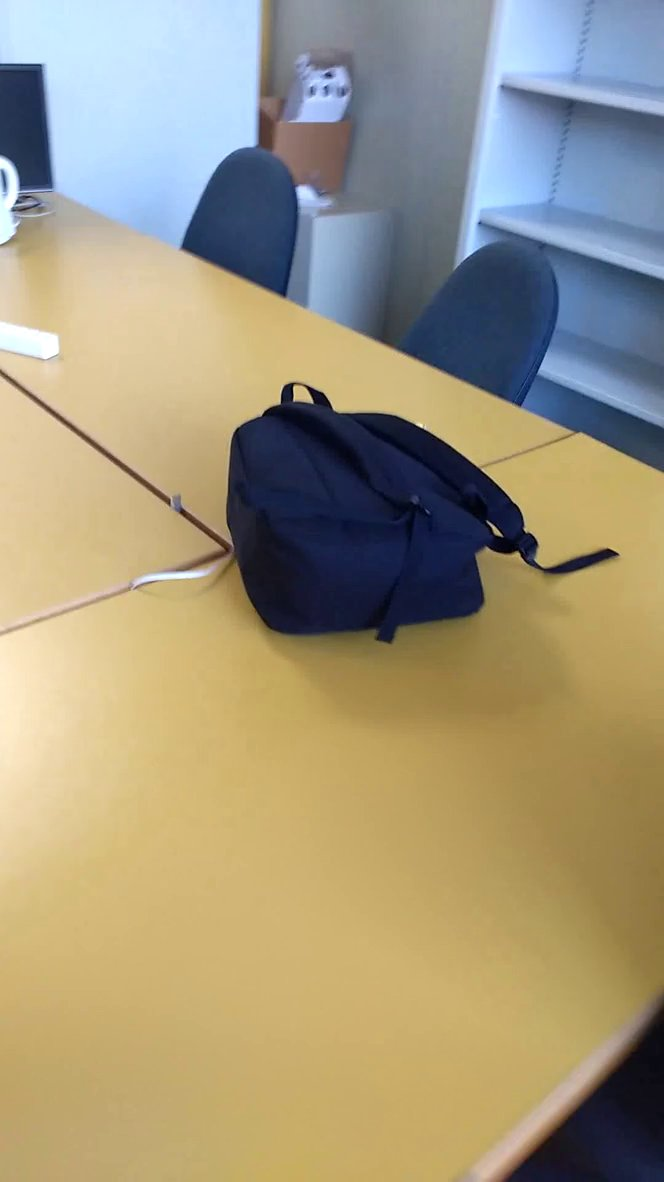bag: (210, 367, 626, 657)
chair: (385, 230, 577, 447), (174, 135, 308, 335)
